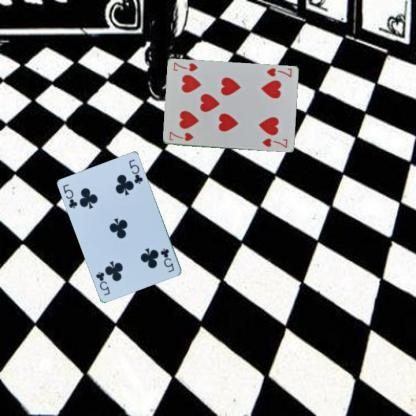5c: (61, 181, 79, 210), (158, 246, 176, 273)
7h: (264, 65, 292, 79), (167, 130, 194, 142)
